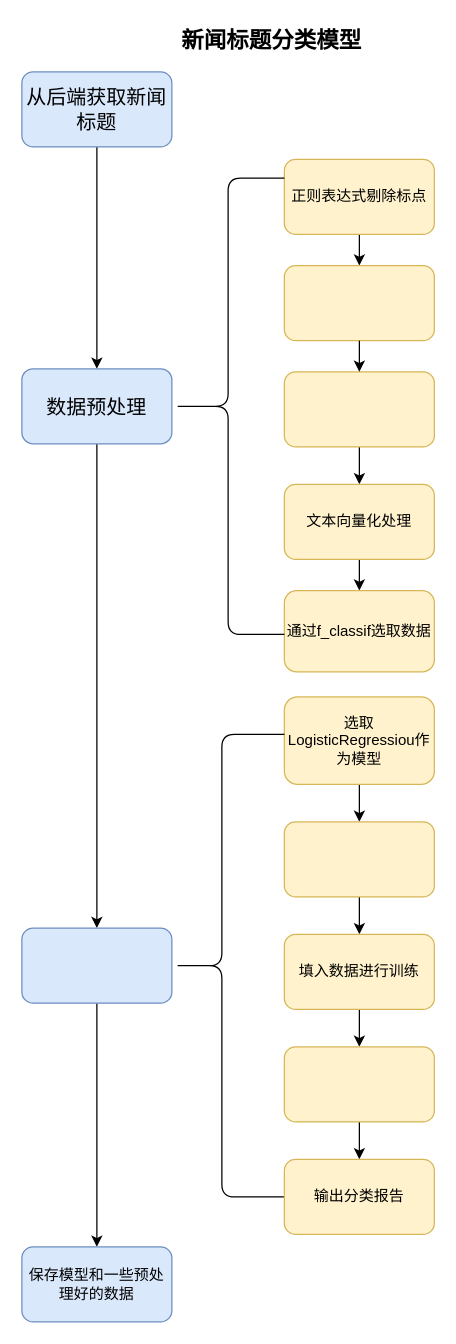
Image size: 456x1344. Some labels were removed from this diagram. The centre of each missing label's shape, as x and y in pixels:
jieba分词: the point at 358,302
交叉验证: the point at 358,1084
剔除停止词: the point at 358,409
数据正则化处理: the point at 358,859
模型训练: the point at 96,965
